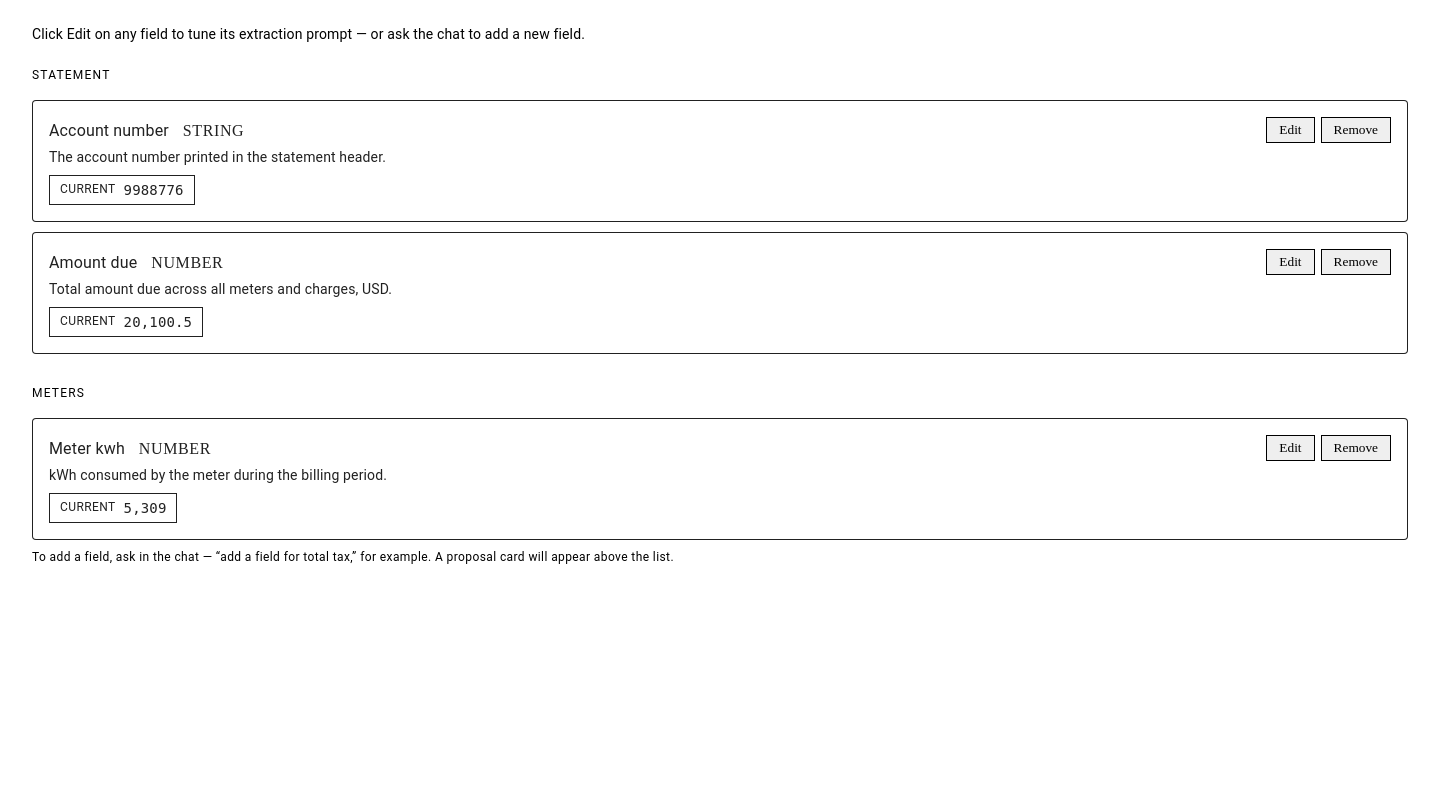
SchemaView — rewrite with agent › shows the agent's proposal and Accept applies it to the prompt (no stub suffix)
expect the element with test id "schema-field-account_number" is shown: met, box [32,100,1408,222]
Step 1. Click the button with test id "schema-edit-field-account_number" → (1290,130), box [1266,117,1315,143]
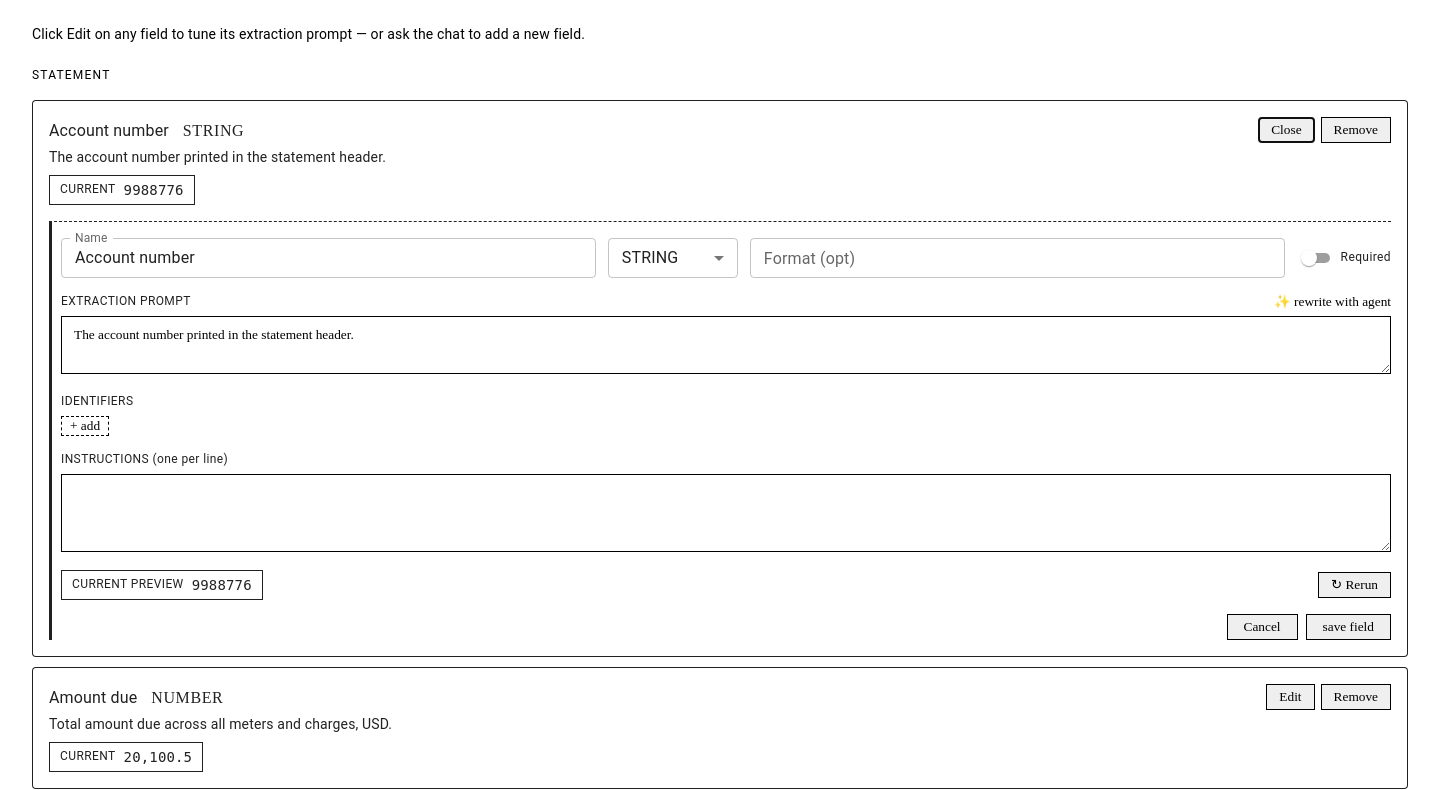
Step 2. Click the button with test id "schema-field-editor-rewrite-account_number" → (1333,302), box [1274,294,1391,310]
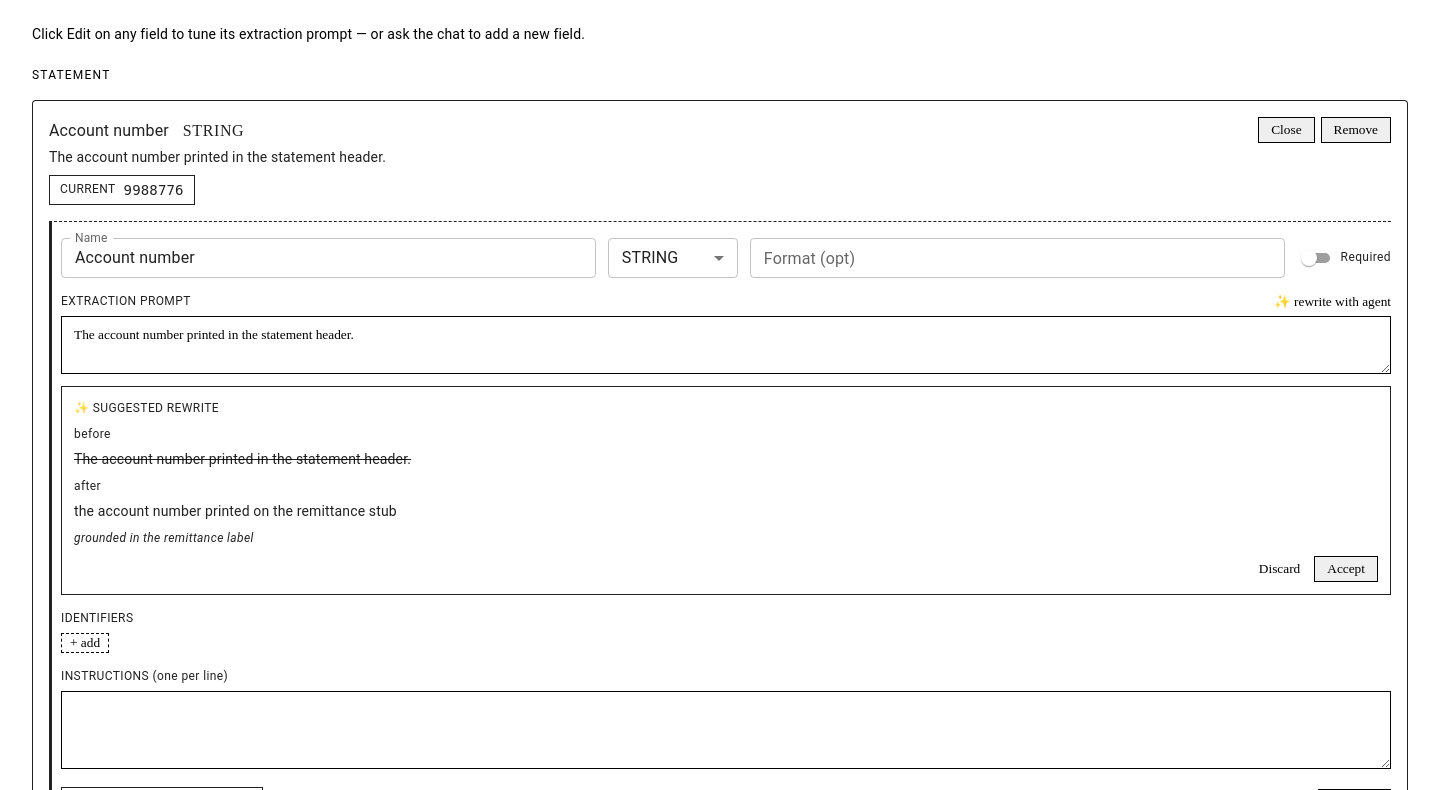
expect the element with test id "schema-field-editor-rewrite-proposal-account_number" shows "the account number printed on the remittance stub": met, box [74,503,397,519]
Step 3. Click the button with test id "schema-field-editor-rewrite-accept-account_number" → (1346,570), box [1314,556,1378,582]
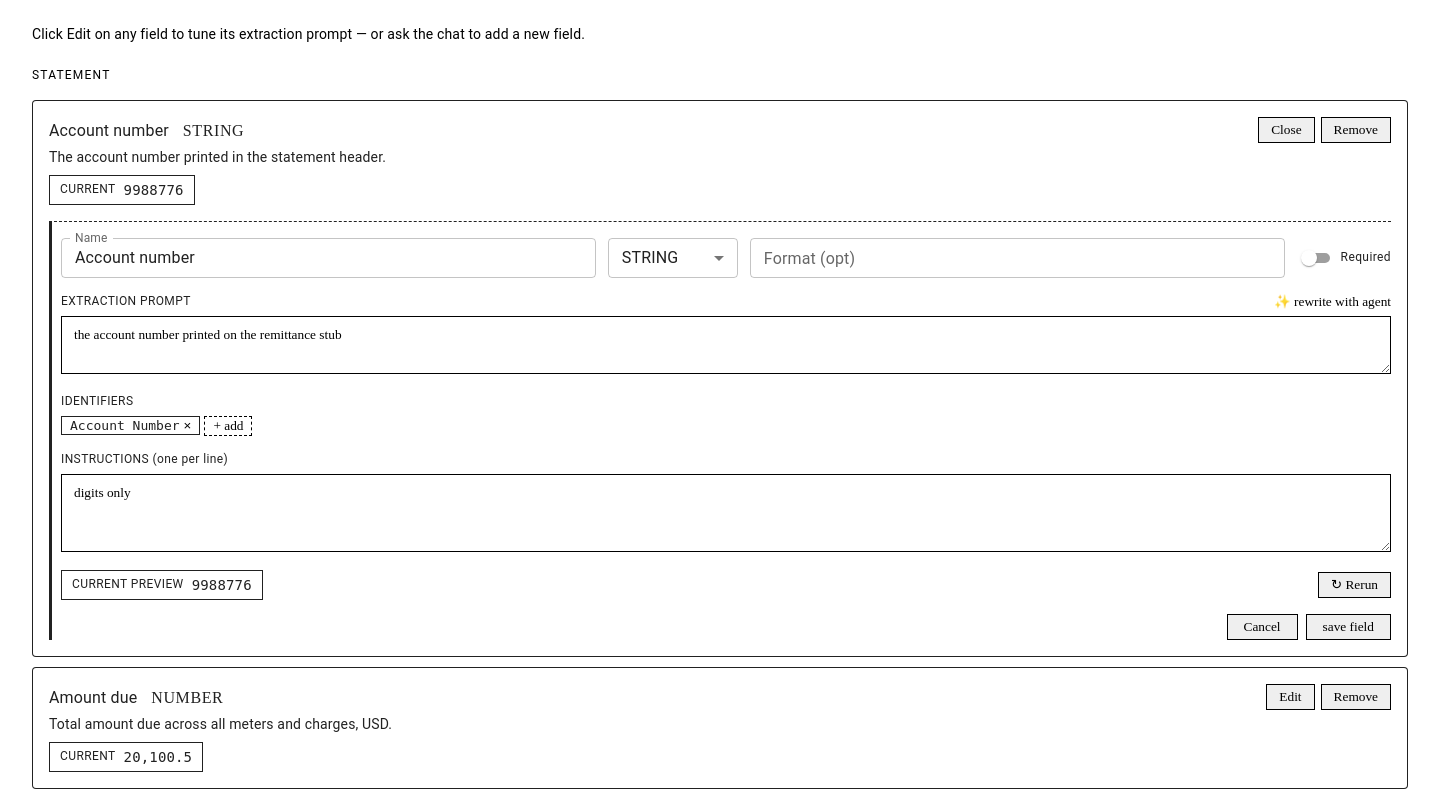
expect the text box named "Extraction prompt" holds "the account number printed on the remittance stub": met, box [61,316,1391,374]
expect the element with test id "schema-field-editor-rewrite-proposal-account_number" is gone: met
